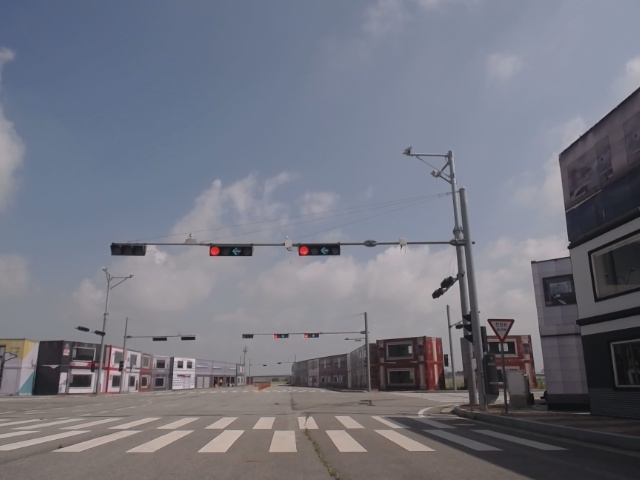left_green_4: (209, 244, 252, 257), (298, 244, 340, 256)
